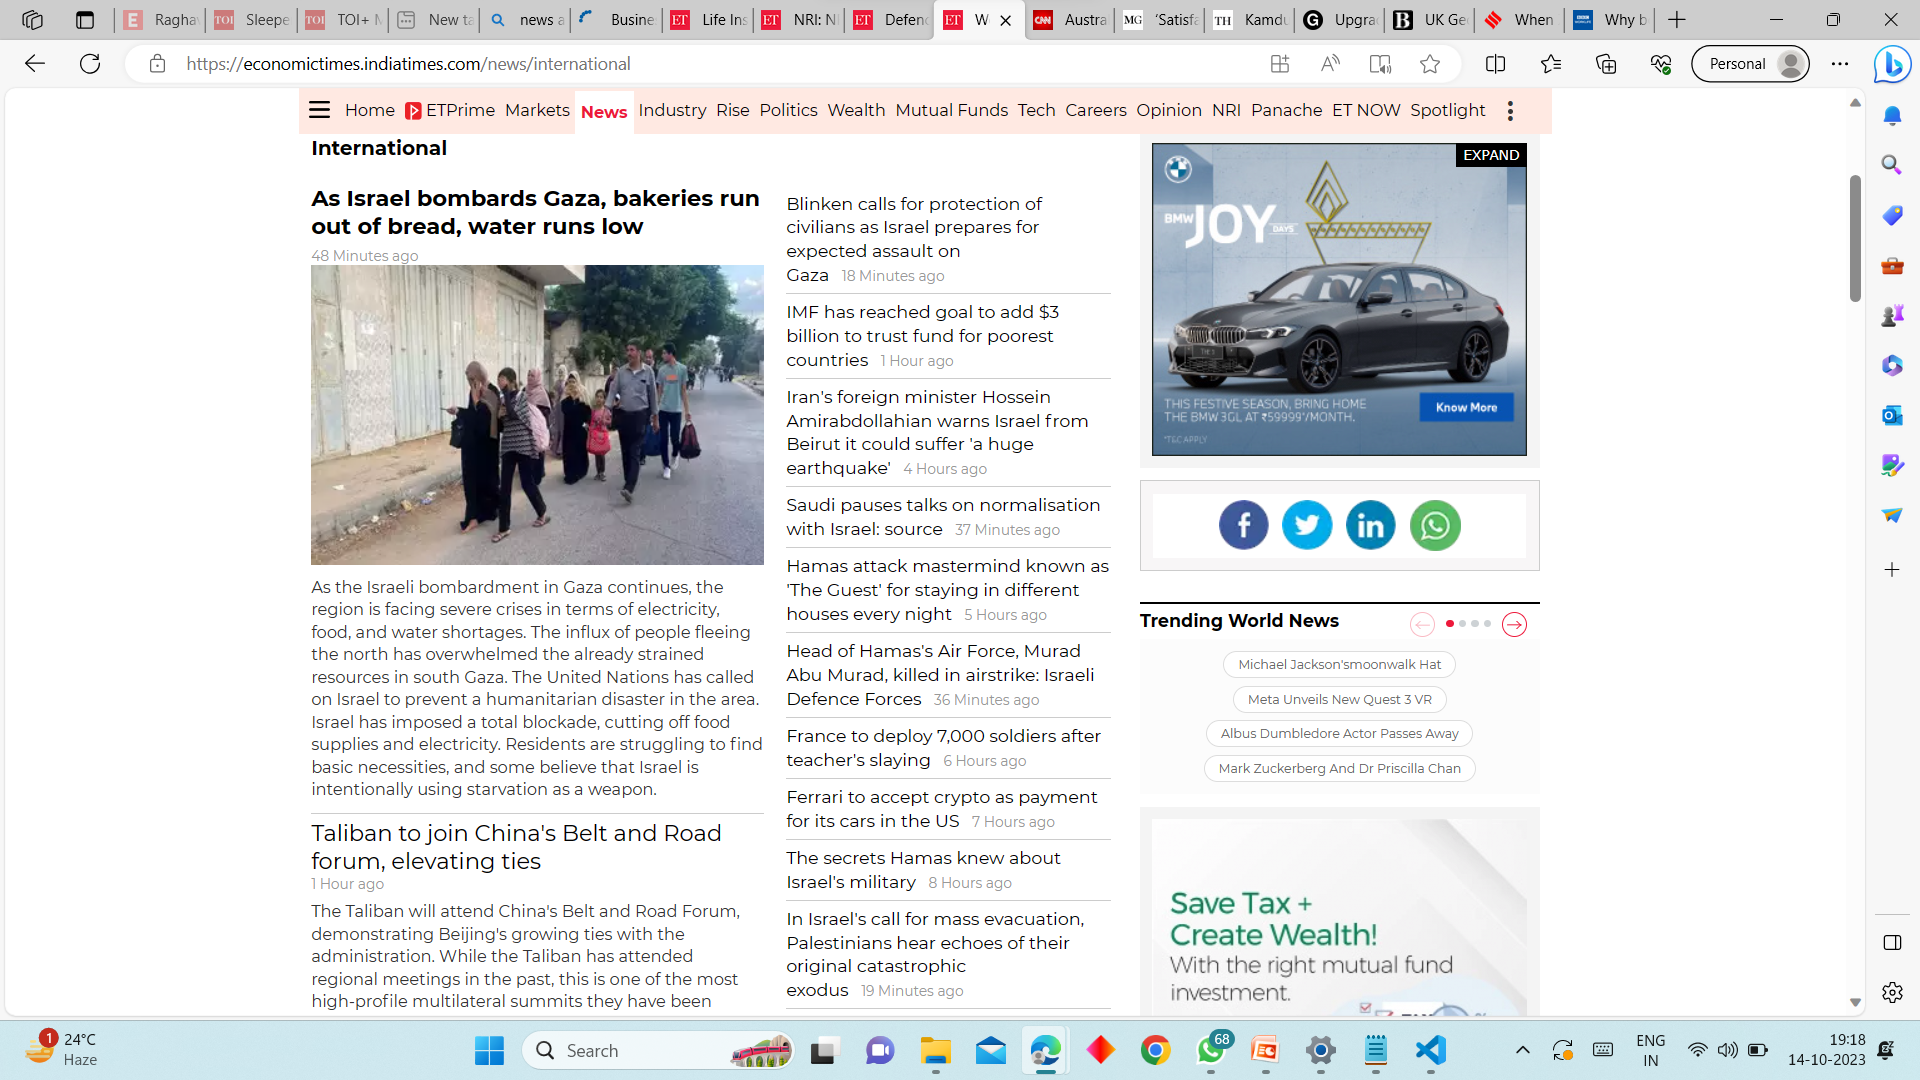Image: (309, 266, 765, 566), (1138, 135, 1543, 452), (1135, 807, 1540, 1013), (1131, 601, 1549, 782), (1127, 485, 1545, 563)
Paragraph: (305, 579, 769, 796), (302, 906, 758, 1006), (290, 816, 769, 899), (778, 385, 1105, 485), (311, 186, 749, 260), (775, 187, 1071, 286), (775, 910, 1087, 1004), (778, 640, 1106, 713), (785, 559, 1116, 630), (778, 298, 1080, 369), (781, 781, 1112, 839), (781, 723, 1112, 771), (781, 495, 1109, 543), (775, 849, 1091, 899), (302, 132, 454, 167)
